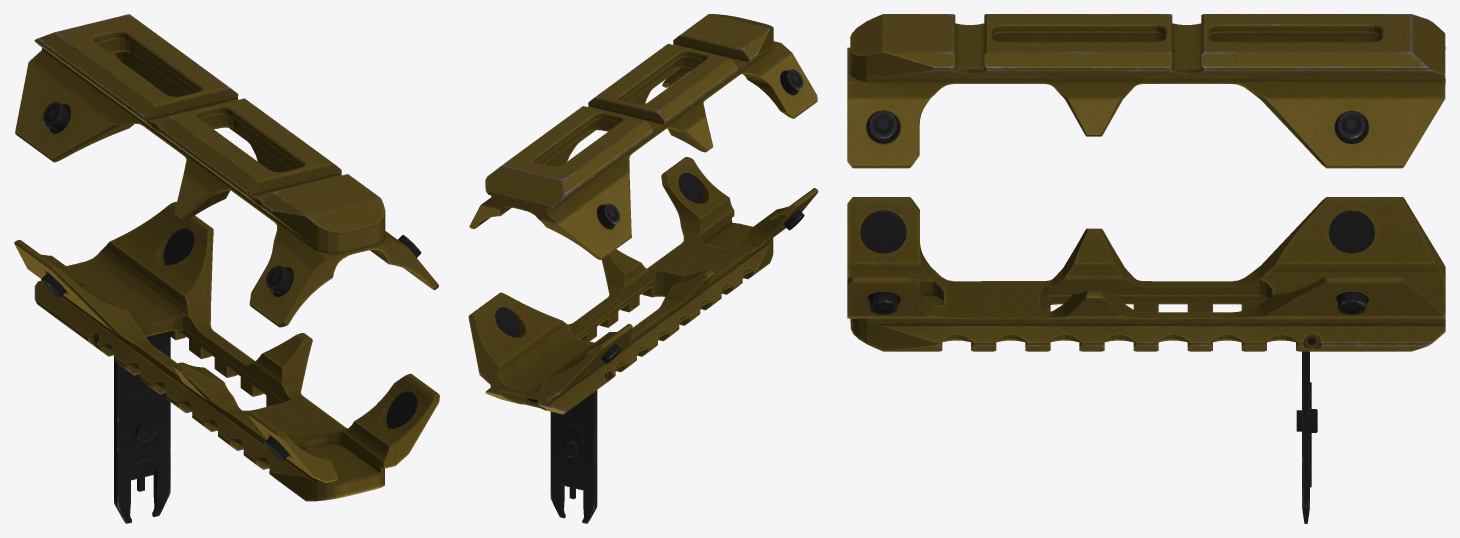
3 renders of one model, left to right at view 1: azimuth 30°, elevation 25°; view 2: azimuth 150°, elevation 25°; view 3: azimuth 270°, elevation 25°, orthographic. The views are drawn at different scales.
Parts seen in each view (by area): view 1: TW_68a6ff732885e0bbd30bb6f9_PZ_Import; view 2: TW_68a6ff732885e0bbd30bb6f9_PZ_Import; view 3: TW_68a6ff732885e0bbd30bb6f9_PZ_Import.
Boxes of the visible parts, box(x1,y1,x2,y2) form: TW_68a6ff732885e0bbd30bb6f9_PZ_Import: box(14, 14, 439, 523); TW_68a6ff732885e0bbd30bb6f9_PZ_Import: box(468, 14, 818, 523); TW_68a6ff732885e0bbd30bb6f9_PZ_Import: box(847, 14, 1445, 523).
Bounding box in the file's own units: 0.021 × 0.0639 × 0.0568.
Materials: 1 (1 with a texture image).
